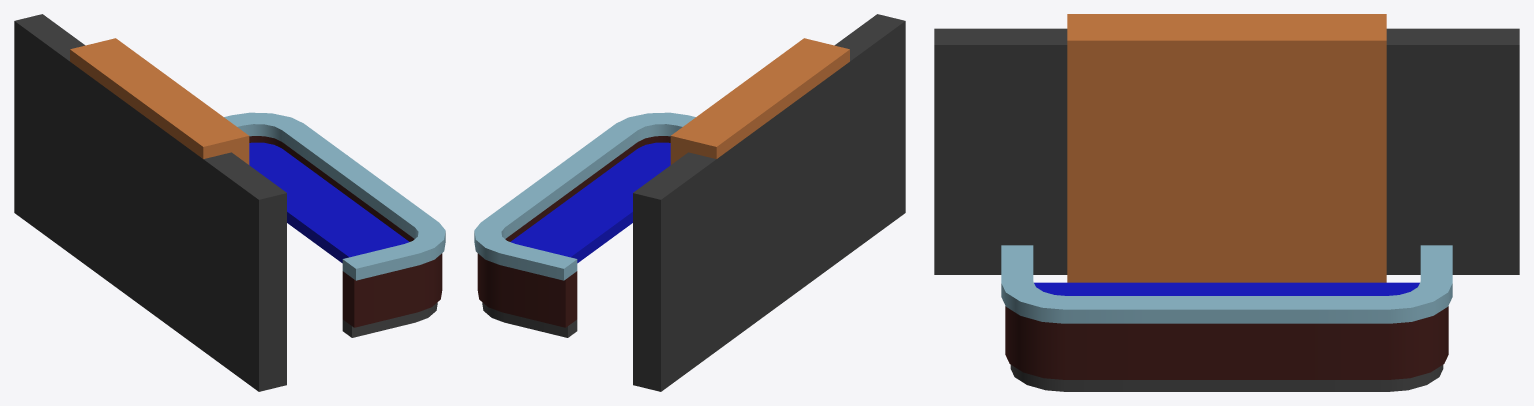
File: Infordesk.fbx
3 views of the same model, side by side, from view 1: azimuth 30°, elevation 25°; view 2: azimuth 150°, elevation 25°; view 3: azimuth 270°, elevation 25° (orthographic). The views are drawn at different scales.
Visible parts, largest first — view 1: Cube.007, Cube.006; view 2: Cube.007, Cube.006; view 3: Cube.007, Cube.006.
Part boxes in pixels (x1=…): Cube.007: x1=14, y1=14, x2=286, y2=391; Cube.006: x1=224, y1=112, x2=445, y2=337; Cube.007: x1=633, y1=14, x2=905, y2=391; Cube.006: x1=474, y1=112, x2=695, y2=337; Cube.007: x1=934, y1=14, x2=1519, y2=282; Cube.006: x1=1001, y1=245, x2=1452, y2=391.
Bounding box in the file's own units: 512 × 923 × 425.
